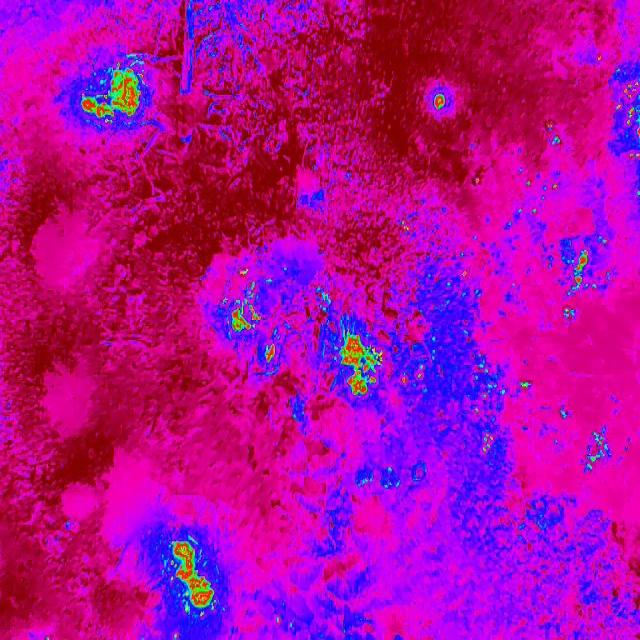fire: (510, 378, 614, 470), (512, 117, 566, 217), (168, 538, 218, 616), (81, 66, 142, 122), (334, 334, 382, 402), (224, 289, 262, 339), (615, 79, 640, 125), (572, 251, 592, 289), (236, 264, 258, 291), (395, 212, 415, 236), (429, 90, 447, 114), (261, 343, 278, 365)
